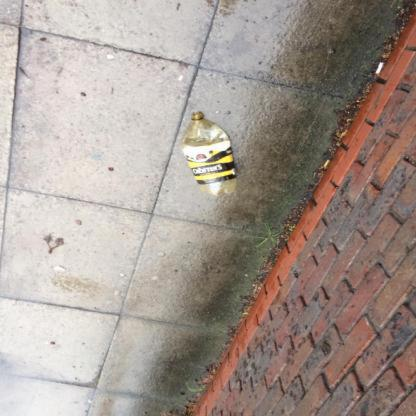Bottle cap: (179, 112, 237, 196)
Cigarette: (375, 63, 383, 74), (324, 160, 330, 167)
